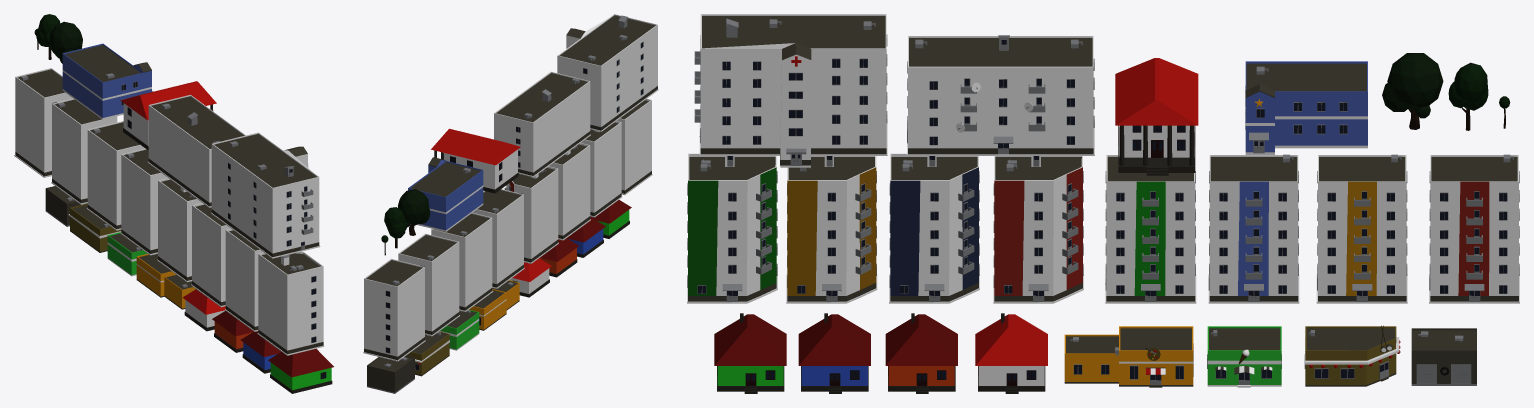
File: build set lowpoly.obj
3 views of the same model, side by side, from view 1: azimuth 30°, elevation 25°; view 2: azimuth 150°, elevation 25°; view 3: azimuth 270°, elevation 25° (orthographic). The views are drawn at different scales.
Parts seen in each view (by area): view 1: Cube.018_Cube.019, Cube.007_Cube.008, Cube.008_Cube.009, Cube.020_Cube.022, Cube.003_Cube.004, Cube.001_Cube.002, Cube_Cube.001, Cube.002_Cube.003, Cube.004_Cube.005, Cube.005_Cube.006, Cube.006_Cube.007, Cube.016_Cube.017 (+10 smaller); view 2: Cube.018_Cube.019, Cube.008_Cube.009, Cube.003_Cube.004, Cube.001_Cube.002, Cube.020_Cube.022, Cube_Cube.001, Cube.004_Cube.005, Cube.002_Cube.003, Cube.012_Cube.013, Cube.005_Cube.006, Cube.006_Cube.007, Cube.007_Cube.008 (+10 smaller); view 3: Cube.018_Cube.019, Cube.008_Cube.009, Cube.001_Cube.002, Cube_Cube.001, Cube.003_Cube.004, Cube.005_Cube.006, Cube.007_Cube.008, Cube.004_Cube.005, Cube.006_Cube.007, Cube.002_Cube.003, Cube.020_Cube.022, Cube.012_Cube.013 (+10 smaller).
Boxes of the visible parts, x1,y1,x2,y2 form: Cube.018_Cube.019: (211,132,320,258); Cube.007_Cube.008: (257,251,324,355); Cube.008_Cube.009: (147,95,245,207); Cube.020_Cube.022: (62,43,152,119); Cube.003_Cube.004: (14,68,72,177); Cube.001_Cube.002: (51,98,117,204); Cube_Cube.001: (86,121,144,230); Cube.002_Cube.003: (120,148,167,255); Cube.004_Cube.005: (157,178,201,282); Cube.005_Cube.006: (191,203,230,307); Cube.006_Cube.007: (225,228,263,331); Cube.016_Cube.017: (268,348,333,393); Cube.018_Cube.019: (557,14,658,131); Cube.008_Cube.009: (494,71,590,177); Cube.003_Cube.004: (363,259,425,361); Cube.001_Cube.002: (398,233,459,336); Cube.020_Cube.022: (408,157,483,231); Cube_Cube.001: (431,213,493,311); Cube.004_Cube.005: (504,166,558,263); Cube.002_Cube.003: (472,189,524,288); Cube.012_Cube.013: (431,128,520,193); Cube.005_Cube.006: (549,143,590,240); Cube.006_Cube.007: (581,121,622,217); Cube.007_Cube.008: (617,99,652,195); Cube.018_Cube.019: (694,14,887,167); Cube.008_Cube.009: (907,35,1094,155); Cube.001_Cube.002: (1316,154,1407,303); Cube_Cube.001: (1208,154,1299,303); Cube.003_Cube.004: (1429,154,1519,303); Cube.005_Cube.006: (889,153,979,303); Cube.007_Cube.008: (687,153,777,303); Cube.004_Cube.005: (993,156,1083,303); Cube.006_Cube.007: (786,156,877,303); Cube.002_Cube.003: (1105,155,1196,303); Cube.020_Cube.022: (1245,61,1367,154); Cube.012_Cube.013: (1115,58,1198,175).
Size of the model in its own units: 3.57 by 9.1 by 20.05.
